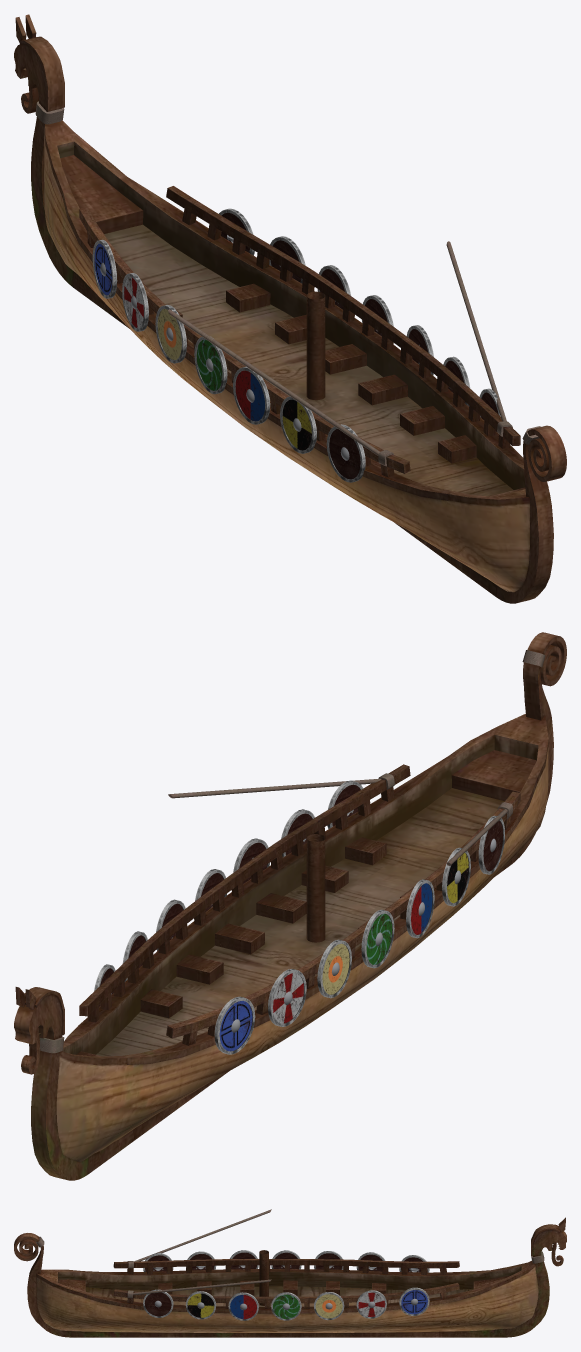
Rendered from viking_longship.glb.
The picture shows the model from 3 angles, top to bottom: view 1: azimuth 30°, elevation 25°; view 2: azimuth 150°, elevation 25°; view 3: azimuth 270°, elevation 25°; orthographic projection. The views are drawn at different scales.
Parts seen in each view (by area): view 1: _Ship, _Shields; view 2: _Ship, _Shields; view 3: _Ship, _Shields.
Boxes of the visible parts, box(x1,y1,x2,y2) form: _Ship: box(14, 14, 566, 603); _Shields: box(92, 208, 500, 482); _Ship: box(14, 632, 566, 1180); _Shields: box(94, 780, 504, 1054); _Ship: box(14, 1209, 566, 1337); _Shields: box(143, 1250, 429, 1320).
Size of the model in its own units: 3.94 by 3.03 by 13.
Materials: 2 (2 with a texture image).
